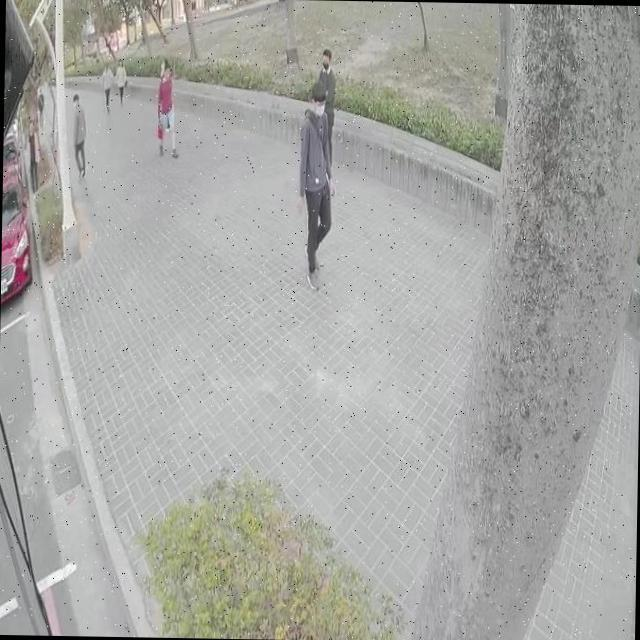person: (297, 84, 336, 288), (156, 64, 178, 156), (72, 93, 88, 179), (25, 120, 42, 198), (321, 48, 336, 110), (103, 56, 113, 110), (118, 59, 128, 106), (158, 54, 166, 78)
